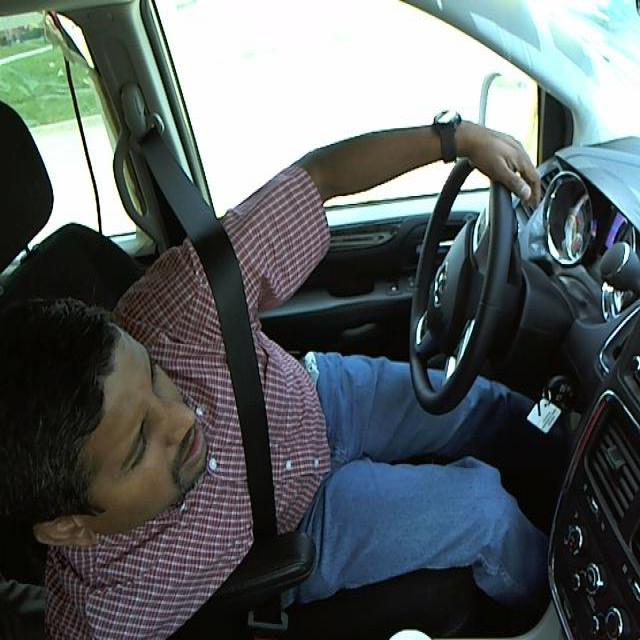seatbelt: (201, 256, 283, 535)
